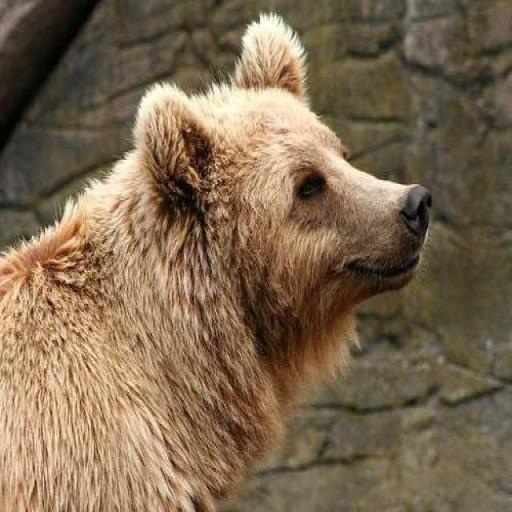Bear: (0, 11, 432, 511)
